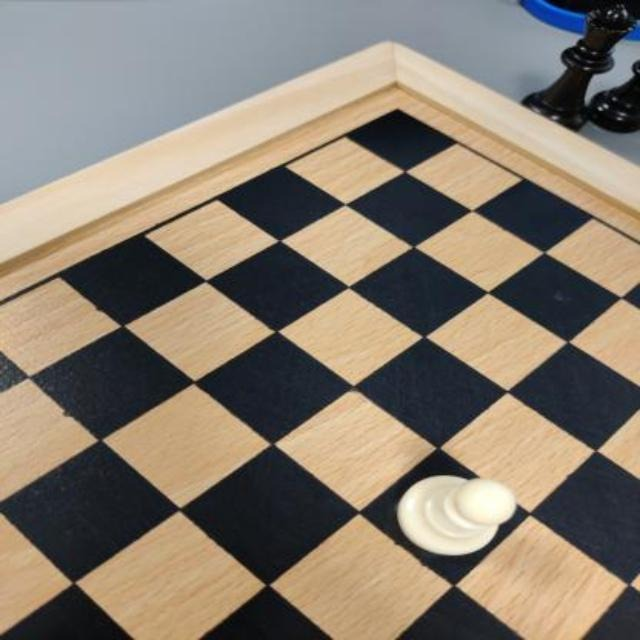white-pawn: (396, 474, 516, 557)
